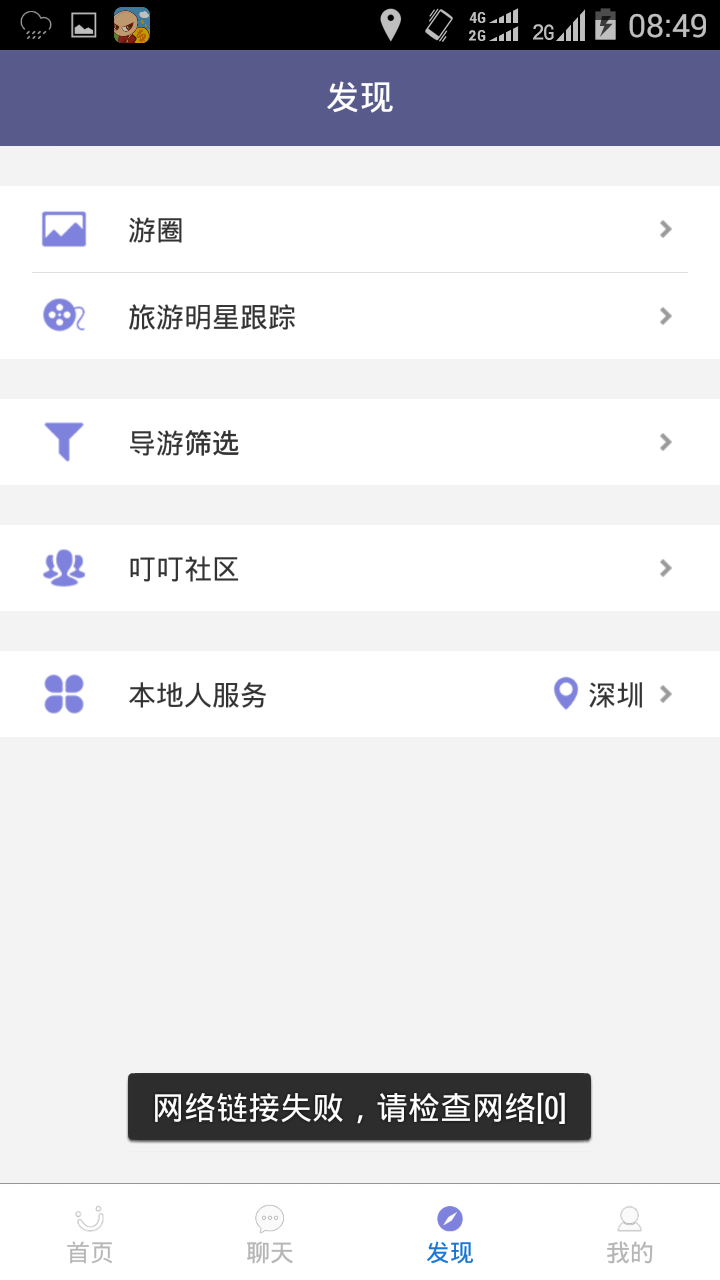alert: (120, 1069, 595, 1145)
